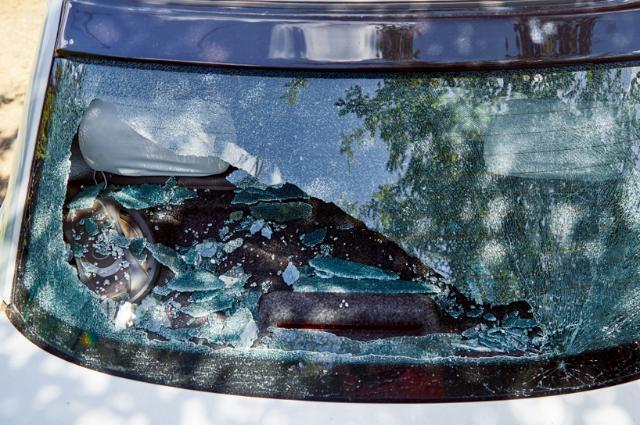Windshield: (57, 71, 640, 349)
